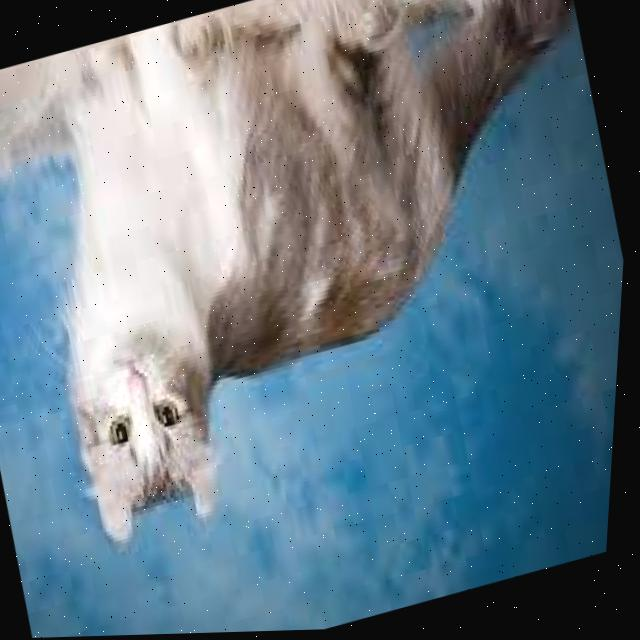American Curl: (0, 0, 640, 562)
